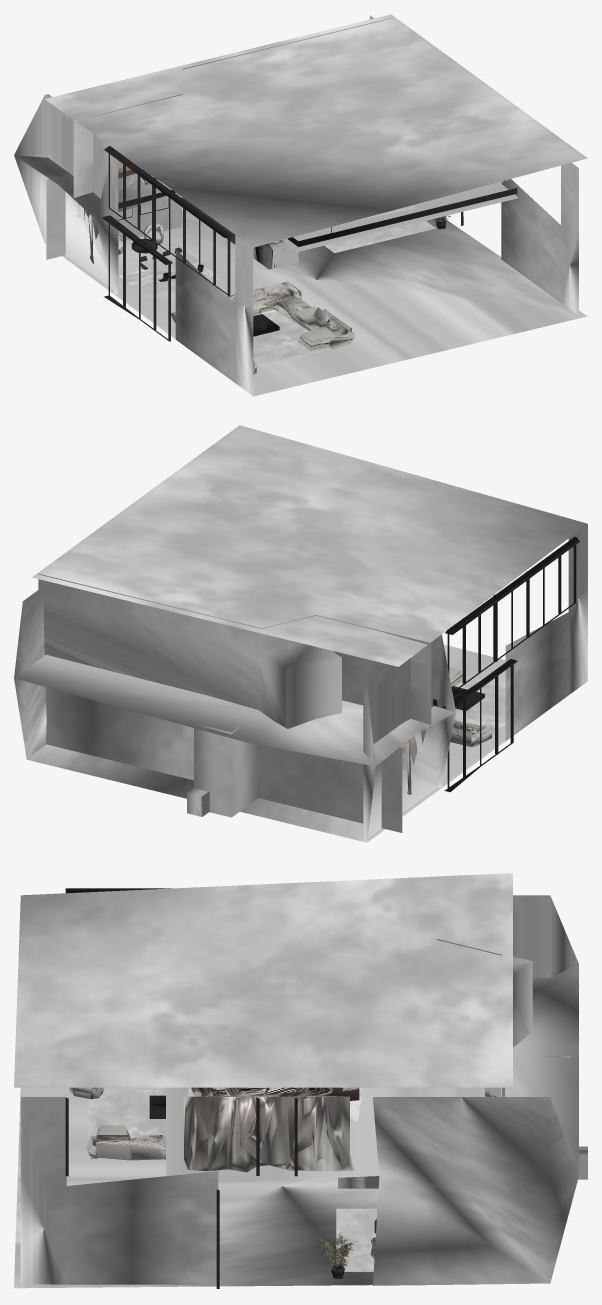
File: spacious_hall.glb
The picture shows the model from 3 angles, top to bottom: view 1: azimuth 30°, elevation 25°; view 2: azimuth 150°, elevation 25°; view 3: azimuth 270°, elevation 25°; orthographic projection. The views are drawn at different scales.
Parts seen in each view (by area): view 1: body; view 2: body; view 3: body.
Part boxes in pixels (x1,y1,x2,y2): body: (14,14,587,396); body: (14,425,587,842); body: (14,873,587,1288).
Size of what is drawn, in the model's own units: 10.14 by 4.41 by 11.26.
11 materials, 10 textured.
